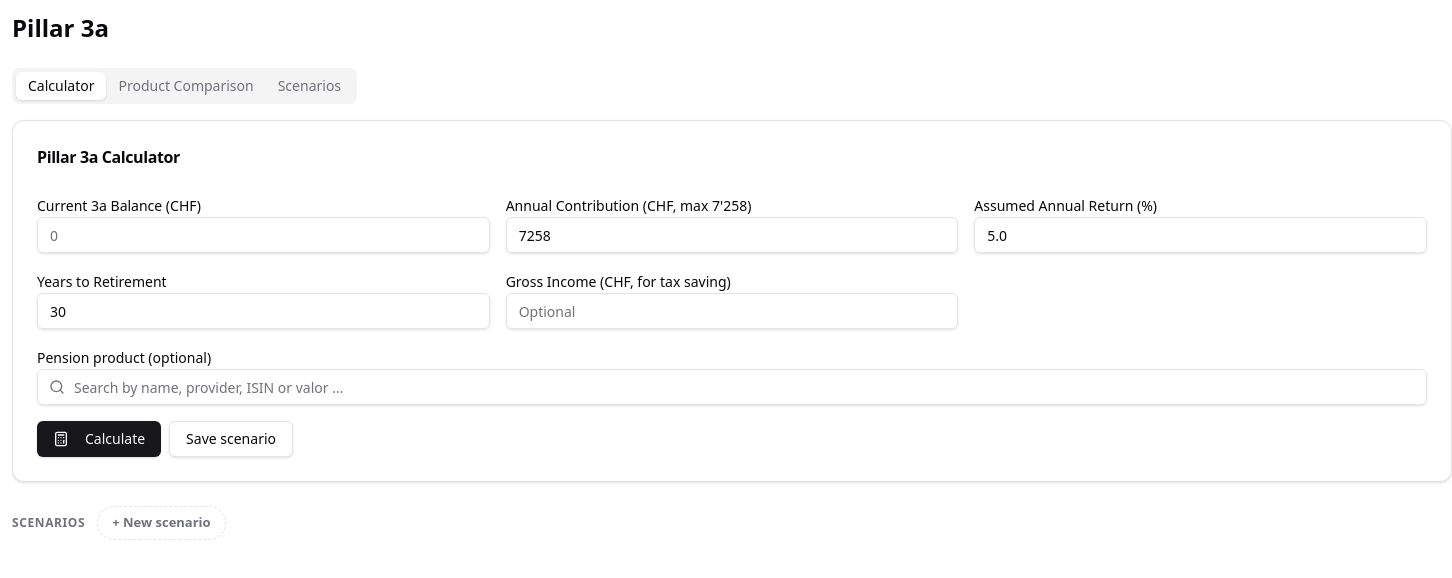
Pillar3Page › switches to the product comparison tab
Click the tab "Product Comparison" at (186, 86), box [106,72,266,100]
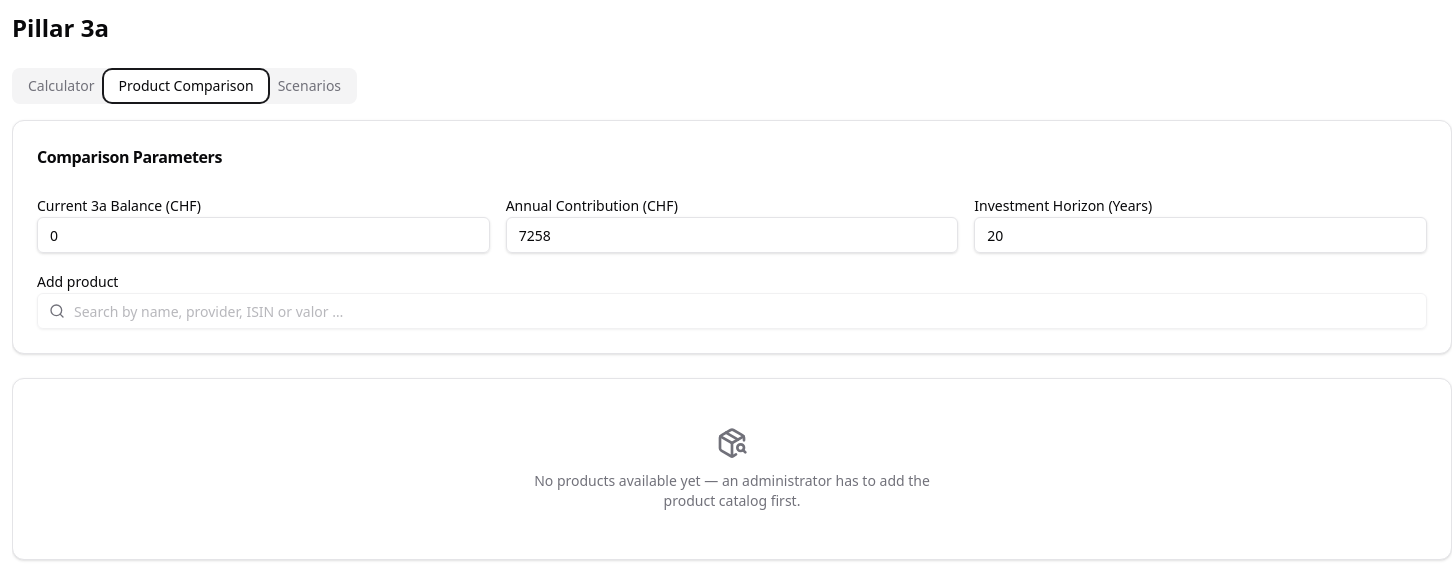
Expected: the text "Comparison Parameters" is shown, [37,146,222,168]
Expected: the button "Calculate" is gone
